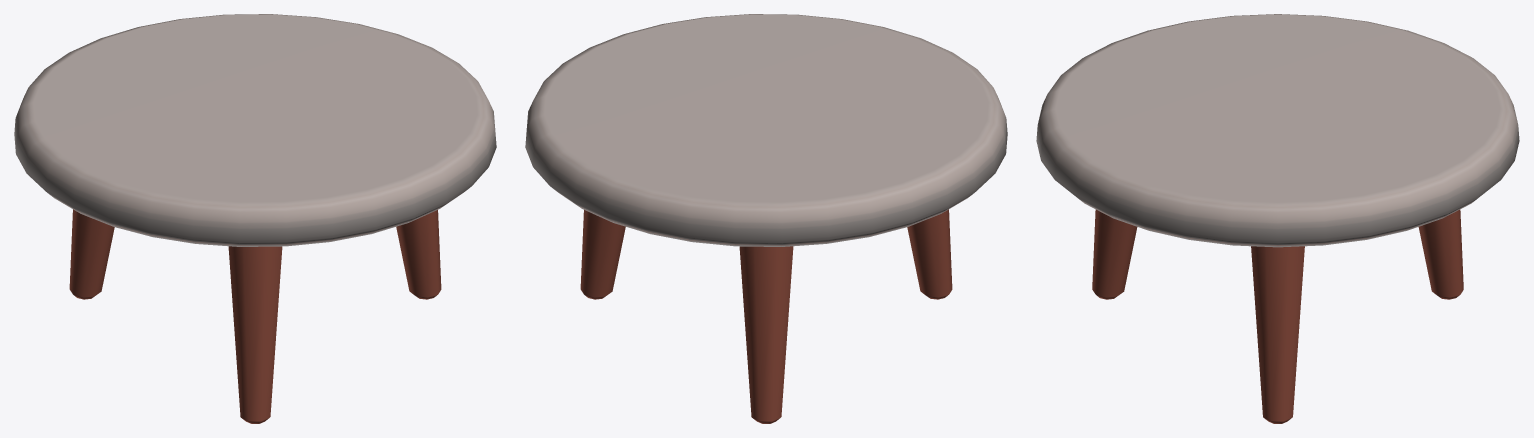
The model's file is coffee-table-03.glb.
The picture shows the model from 3 angles, left to right: view 1: azimuth 30°, elevation 25°; view 2: azimuth 150°, elevation 25°; view 3: azimuth 270°, elevation 25°; orthographic projection.
Parts seen in each view (by area): view 1: Coffee_Table_03; view 2: Coffee_Table_03; view 3: Coffee_Table_03.
Boxes of the visible parts, left/top/right/bottom form: Coffee_Table_03: left=14, top=14, right=496, bottom=423; Coffee_Table_03: left=525, top=14, right=1007, bottom=423; Coffee_Table_03: left=1036, top=14, right=1519, bottom=423.
Bounding box in the file's own units: 0.8041 × 0.4234 × 0.8041.
Materials: 1 (1 with a texture image).
